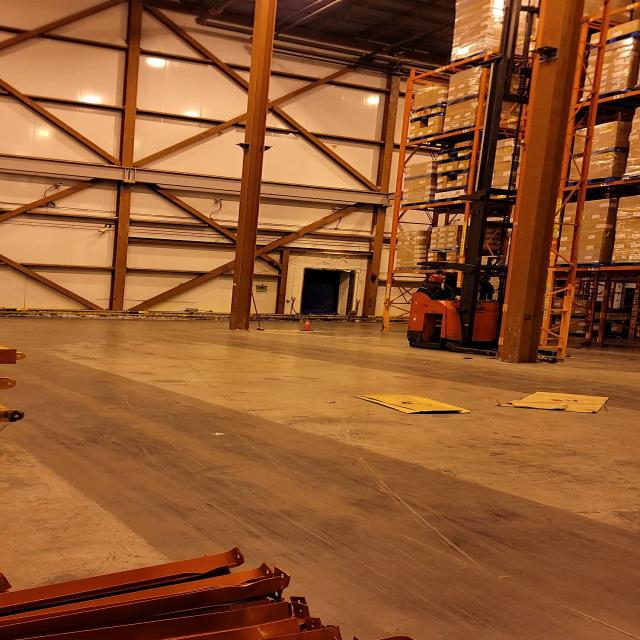forklift: (402, 192, 578, 364)
human: (409, 272, 456, 300)
objectofinterest: (499, 11, 589, 364), (496, 391, 611, 414), (354, 394, 474, 415)
